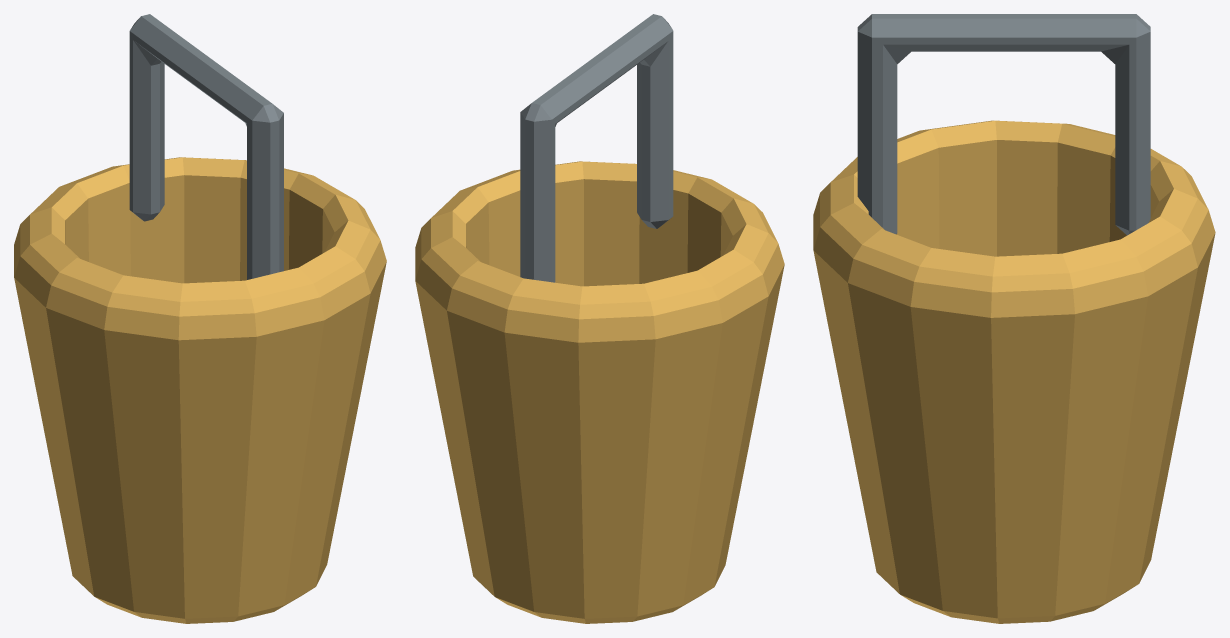
File: BoxPool.fbx
3 views of the same model, side by side, from view 1: azimuth 30°, elevation 25°; view 2: azimuth 150°, elevation 25°; view 3: azimuth 270°, elevation 25° (orthographic). The views are drawn at different scales.
Visible parts, largest first — view 1: Куб.001; view 2: Куб.001; view 3: Куб.001.
Boxes of the visible parts, x1,y1,x2,y2 form: Куб.001: (14, 14, 386, 623); Куб.001: (415, 14, 784, 623); Куб.001: (813, 14, 1215, 623).
Bounding box in the file's own units: 191 × 291 × 190.
